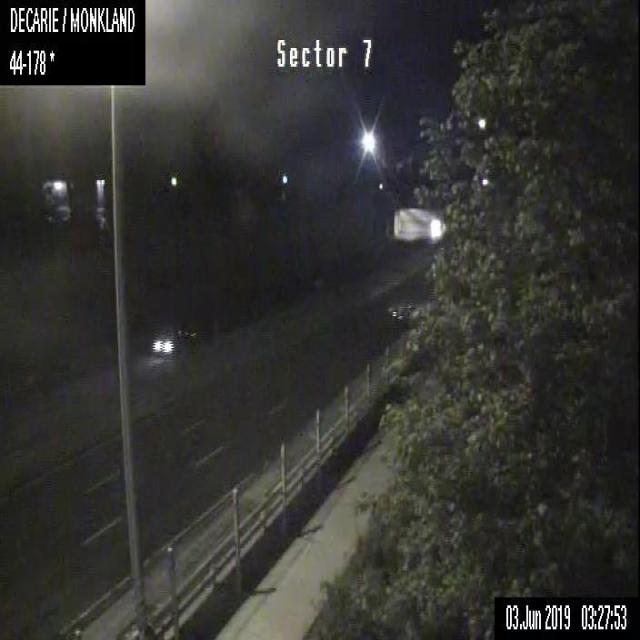vehicle: (149, 328, 193, 355)
